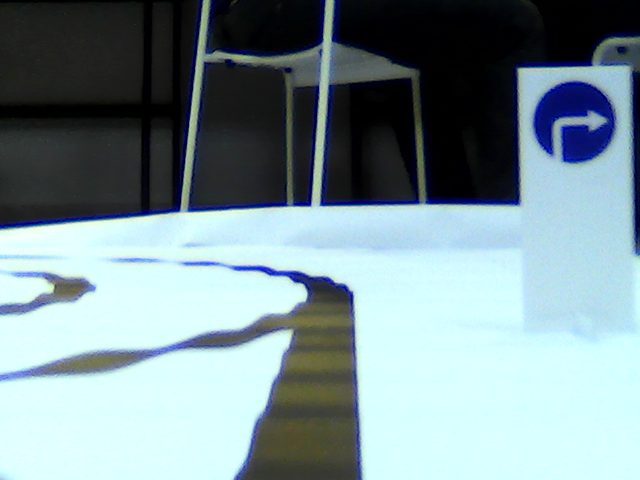Right: (532, 79, 618, 165)
